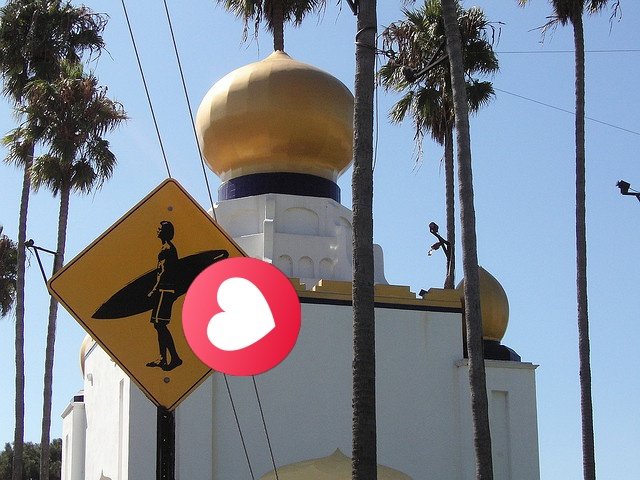love: (182, 257, 301, 376)
